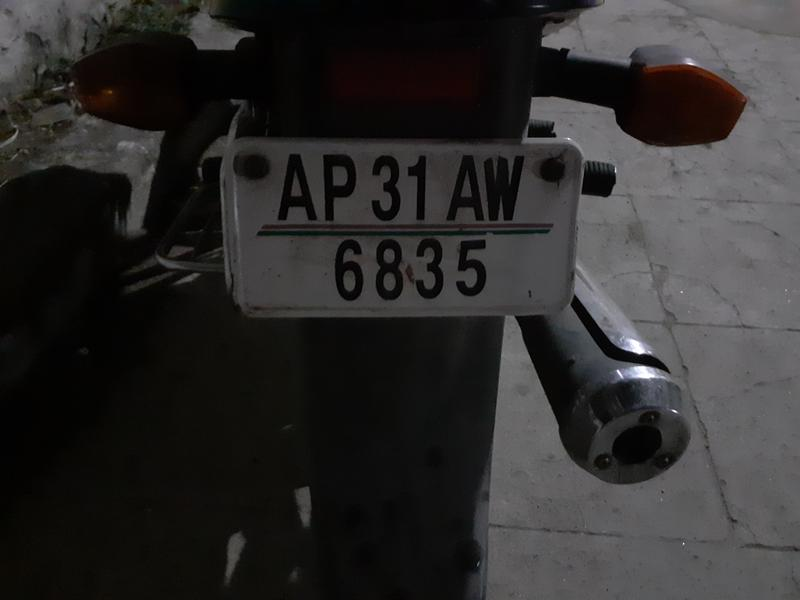numberplate: (227, 131, 584, 330)
